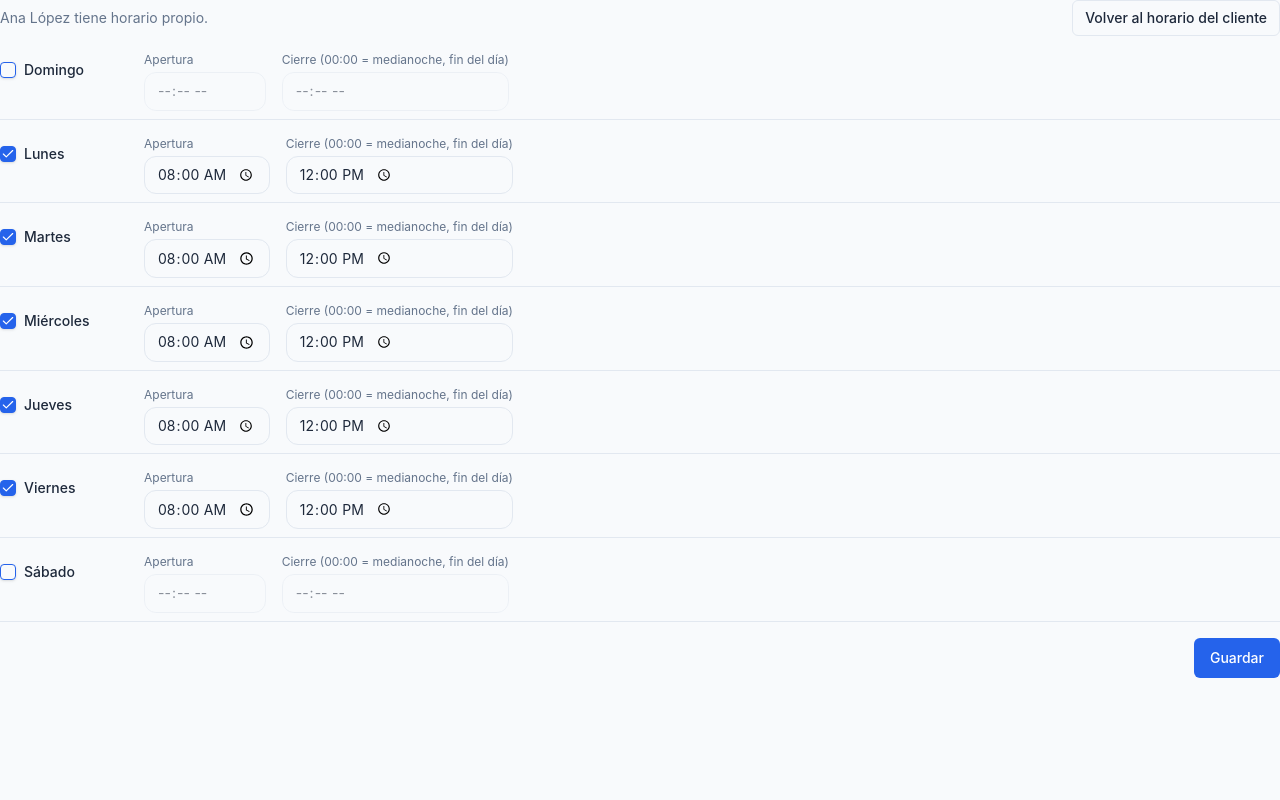
HorarioLaboralUsuarioPanel (tiempo-tecnico T2, pedidos-2026-10-26 S6) › volver al horario del cliente muestra el del cliente aunque hubiera ediciones sin guardar
Expected: the text "Ana López tiene horario propio." is shown, x1=0 y1=8 x2=208 y2=28
What coordinates should you click on to do the following:
click the checkbox named "Lunes" next to "Lunes"
I would click on:
 (8, 154)
Its box is x1=0 y1=146 x2=16 y2=162.
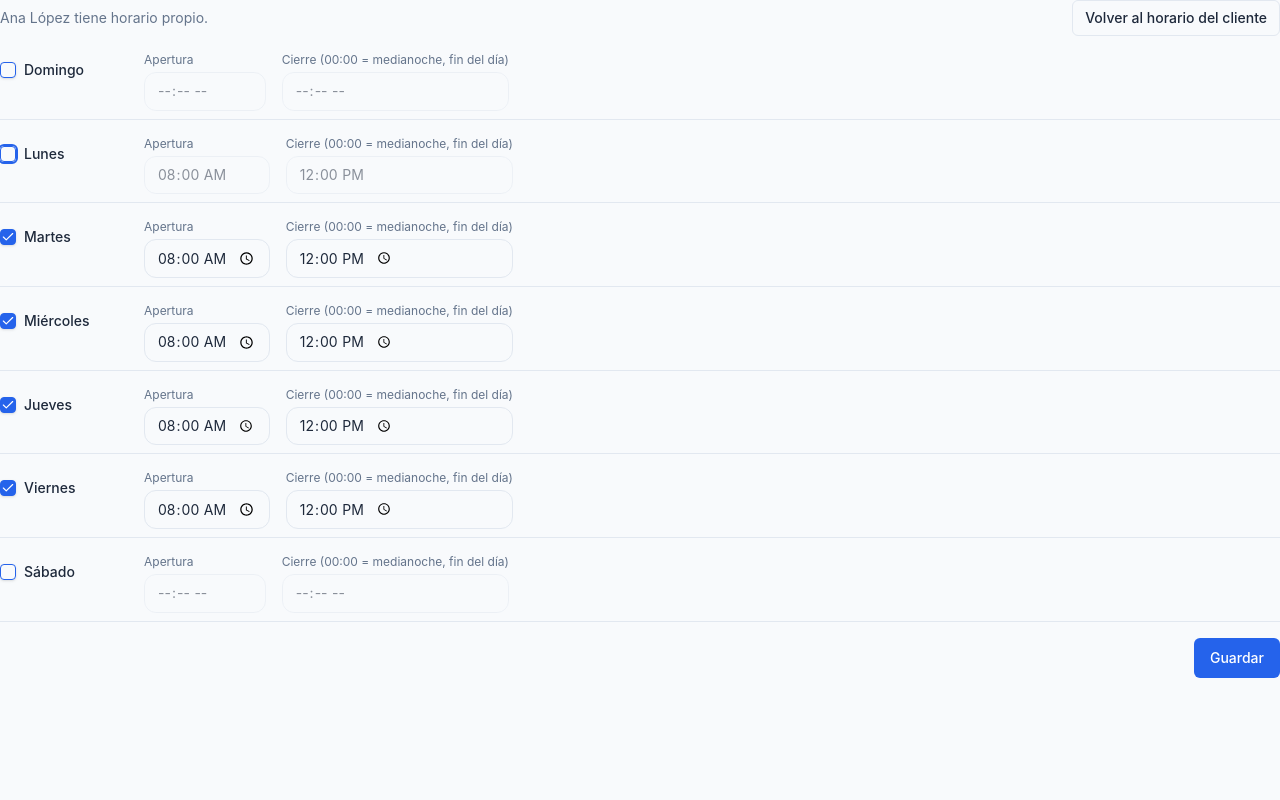
What coordinates should you click on to do the following:
click the button "Volver al horario del cliente"
I would click on:
 (1176, 18)
Its box is x1=1072 y1=0 x2=1279 y2=36.
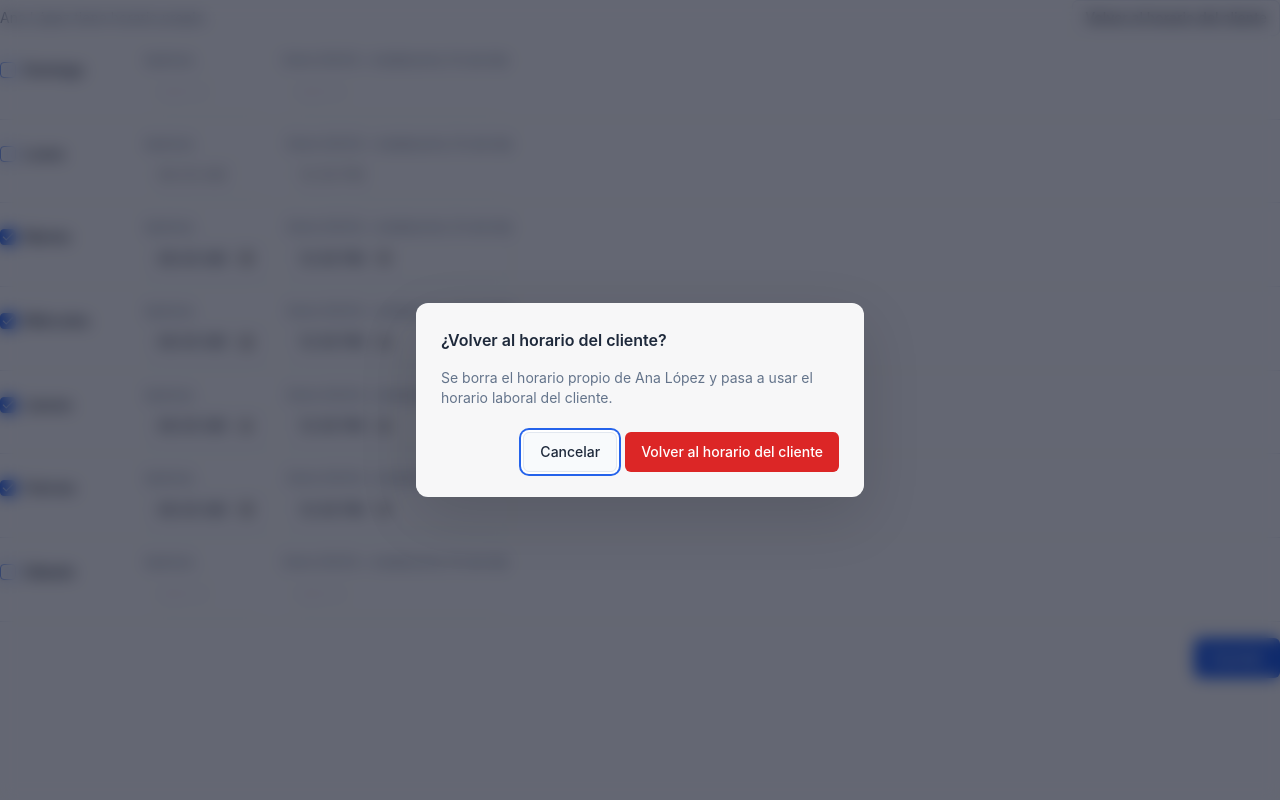
What coordinates should you click on to do the following:
click the button "Volver al horario del cliente"
I would click on:
 (732, 452)
Its box is x1=625 y1=432 x2=839 y2=472.
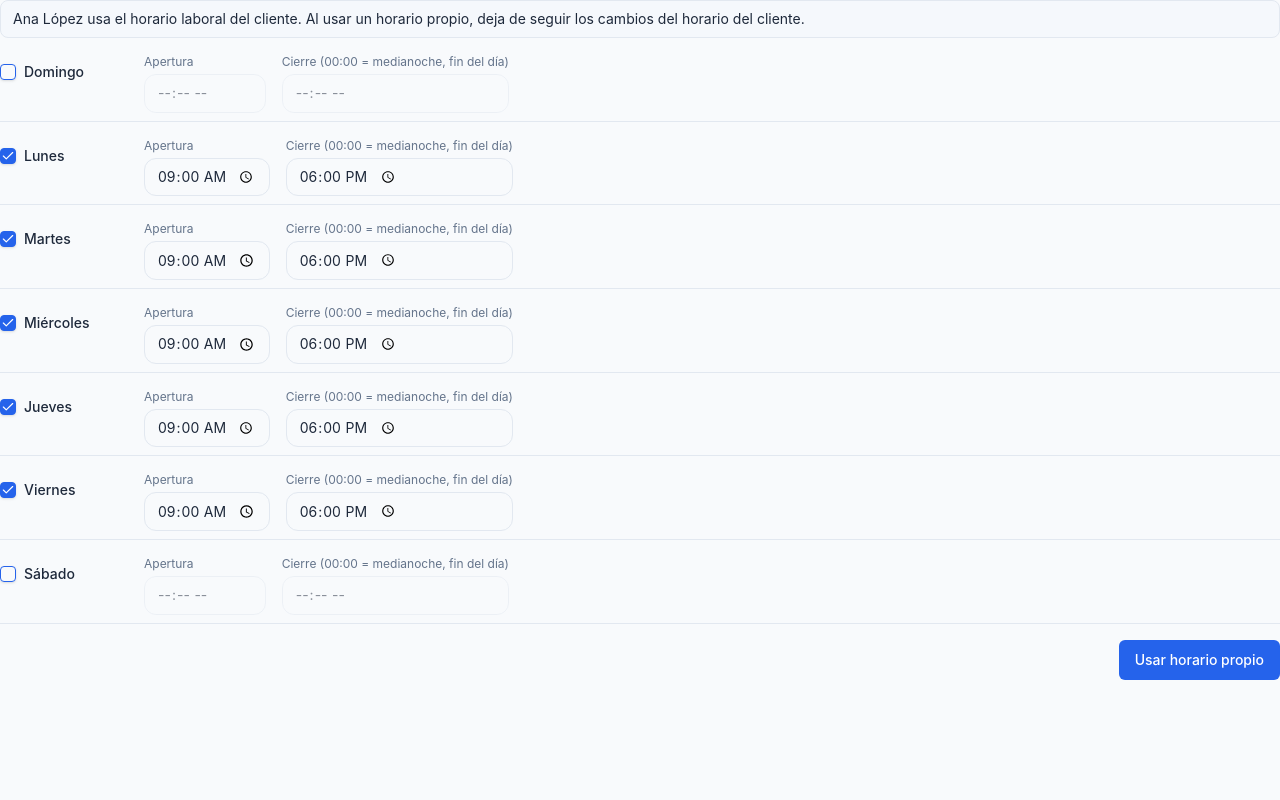
Expected: the text "Ana López usa el horario laboral del cliente." is shown, x1=0 y1=0 x2=1279 y2=38
Expected: the checkbox named "Lunes" next to "Lunes" is checked, x1=0 y1=148 x2=16 y2=164
Expected: the time field labelled "Apertura" next to "Lunes" holds "09:00", x1=144 y1=158 x2=270 y2=196
